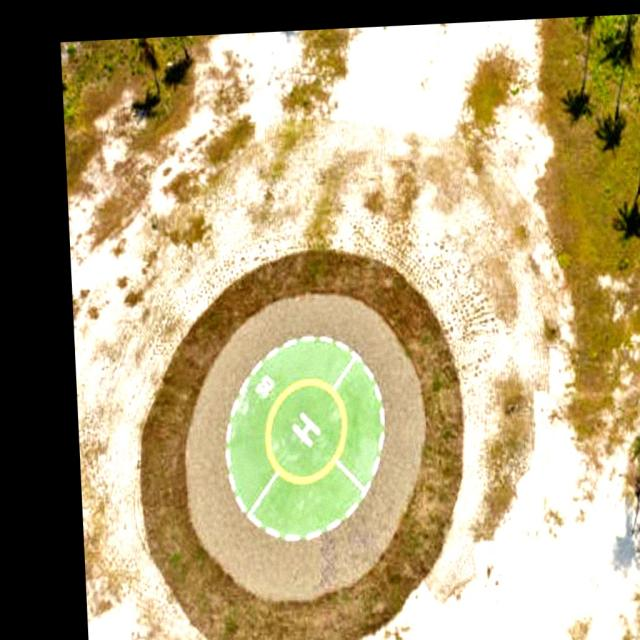helipad: (259, 373, 351, 487)
